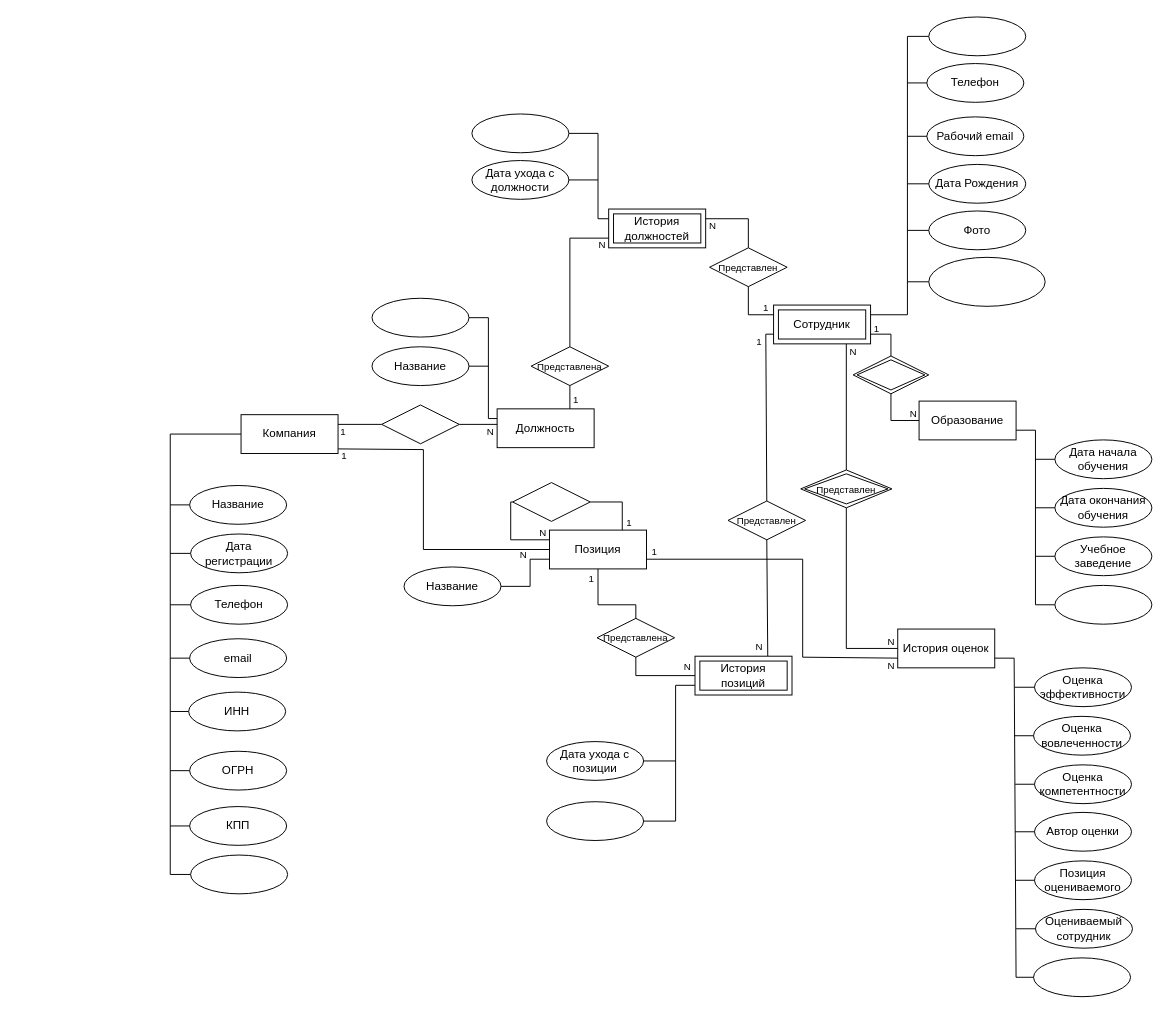
Image size: 1169x1014. Some labels were removed from this diagram. The centre of each missing label's shape, as x and y in pixels:
"Дата вступленя в должность" goes at point (520, 133).
"Дата вступленя на позицию" goes at point (595, 821).
"Дата оценок" goes at point (1082, 977).
"Есть" goes at point (420, 424).
"Оклад" goes at point (420, 317).
"Подчиняется" goes at point (551, 501).
"Получил" goes at point (890, 374).
"Уровень" goes at point (1103, 604).
"ФИО" goes at point (977, 36).
"Характеристика рабочих обязанностей" goes at point (986, 281).
"Юридический адрес" goes at point (239, 874).
